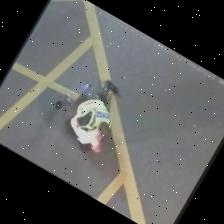person: (66, 80, 118, 153)
